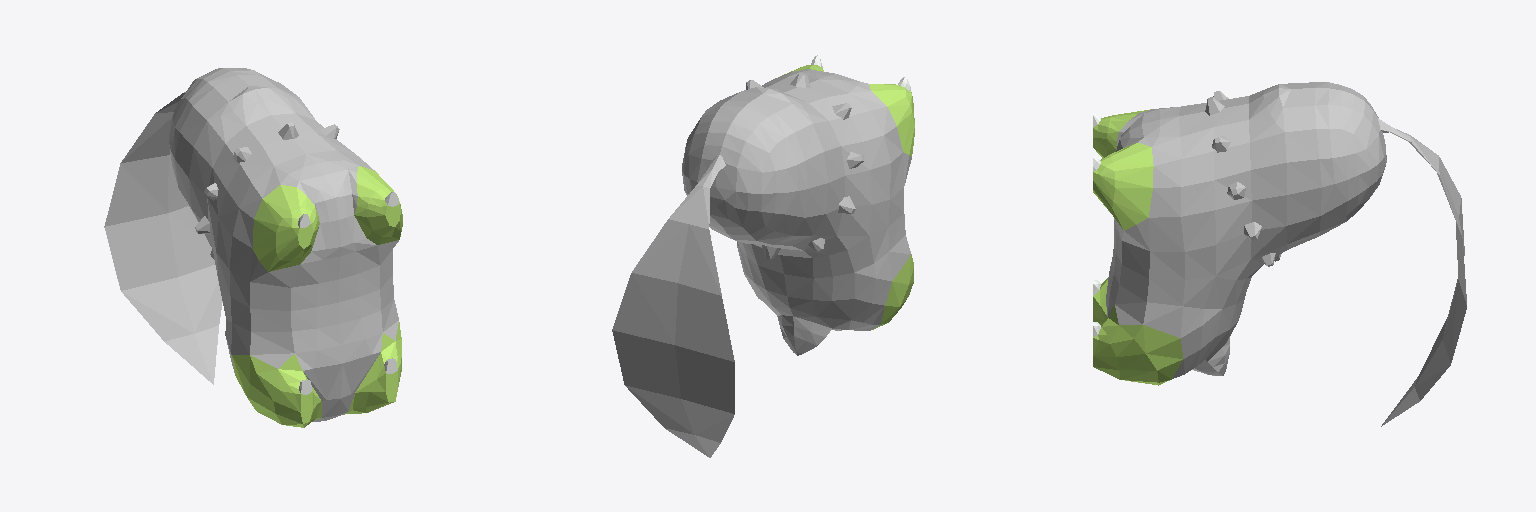
3 renders of one model, left to right at view 1: azimuth 30°, elevation 25°; view 2: azimuth 150°, elevation 25°; view 3: azimuth 270°, elevation 25°, orthographic.
Parts seen in each view (by area): view 1: chicorita; view 2: chicorita; view 3: chicorita.
Boxes of the visible parts, x1,y1,x2,y2 form: chicorita: [104, 68, 402, 427]; chicorita: [612, 55, 914, 457]; chicorita: [1093, 82, 1466, 426].
Bounding box in the file's own units: 2.36 × 5.06 × 5.12.
Materials: 5 (1 with a texture image).